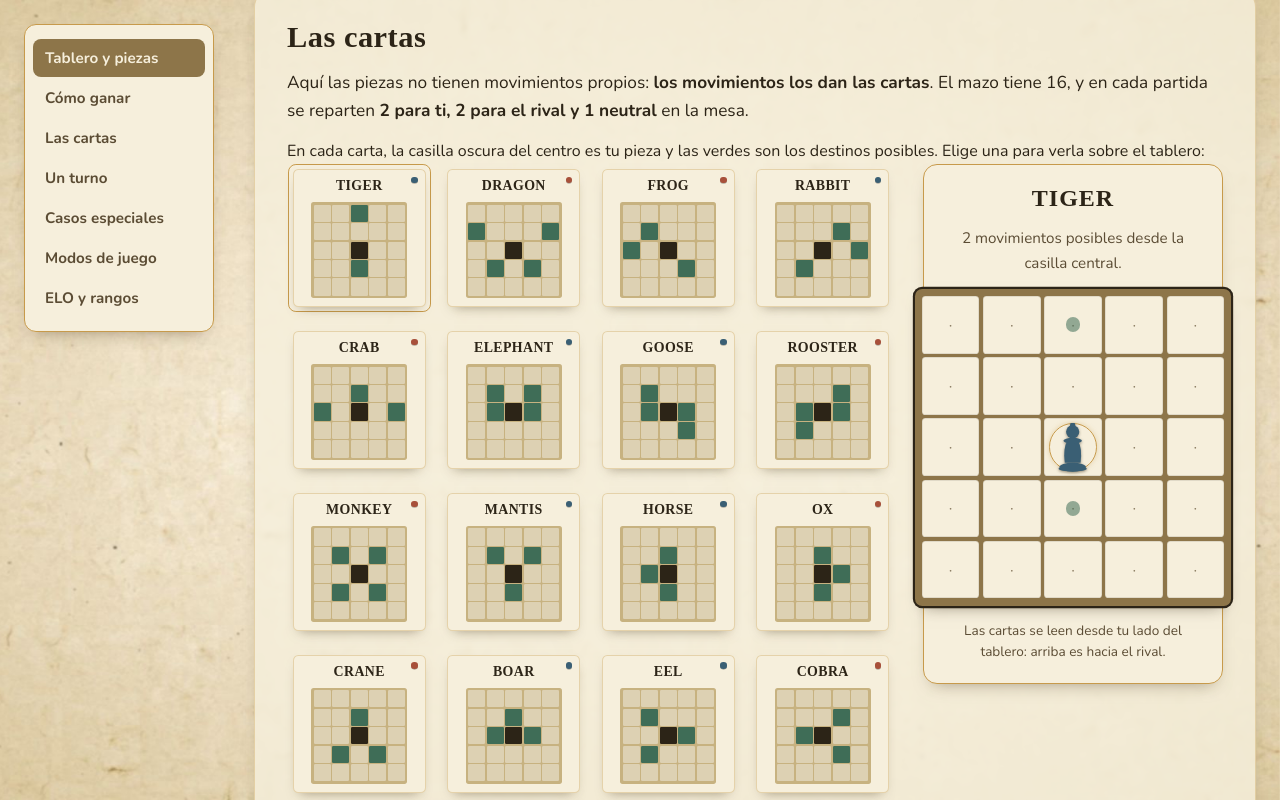
Test: RulesPage › explorador de cartas › ilumina los destinos de la carta elegida
(page scrolled)
Click the button with aria-label "Carta Crab".
click(359, 400)  # box [288, 326, 430, 474]
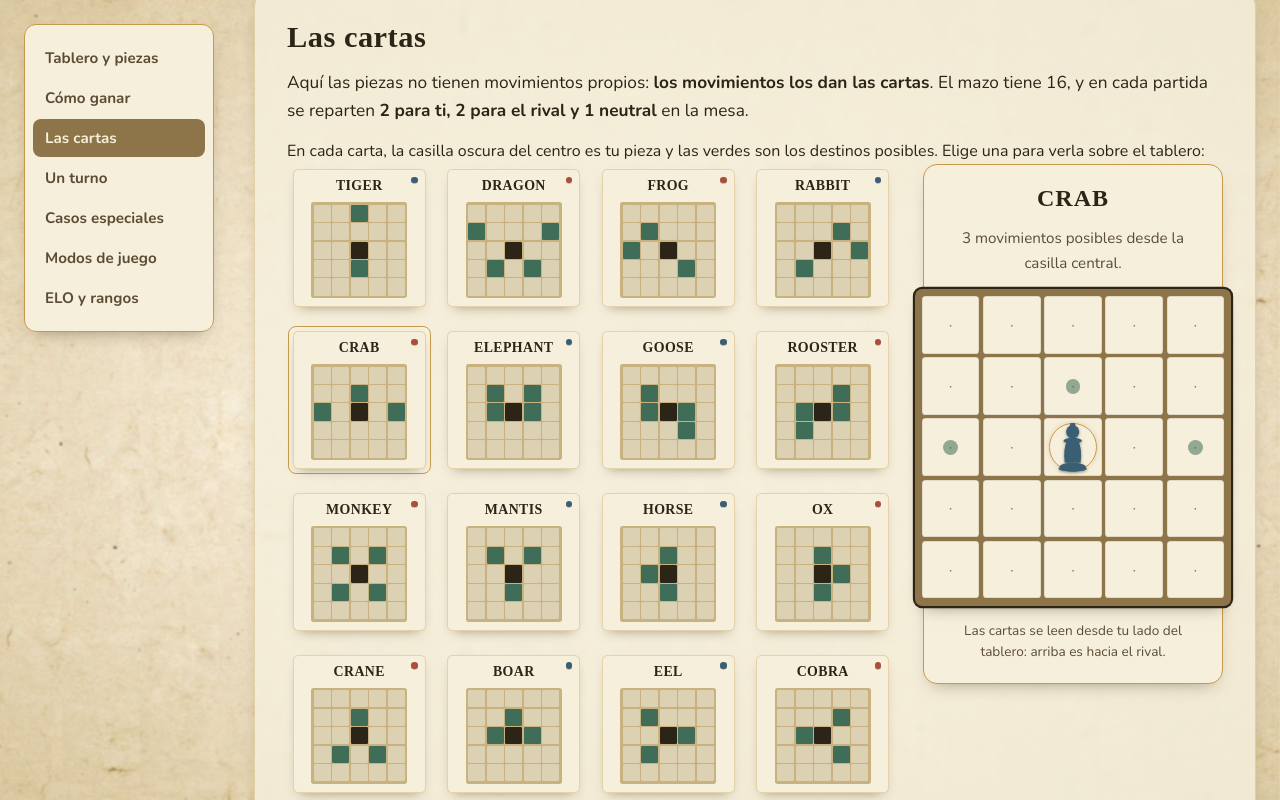
Now the 1st heading "Crab" is shown, box [1037, 185, 1109, 212]
